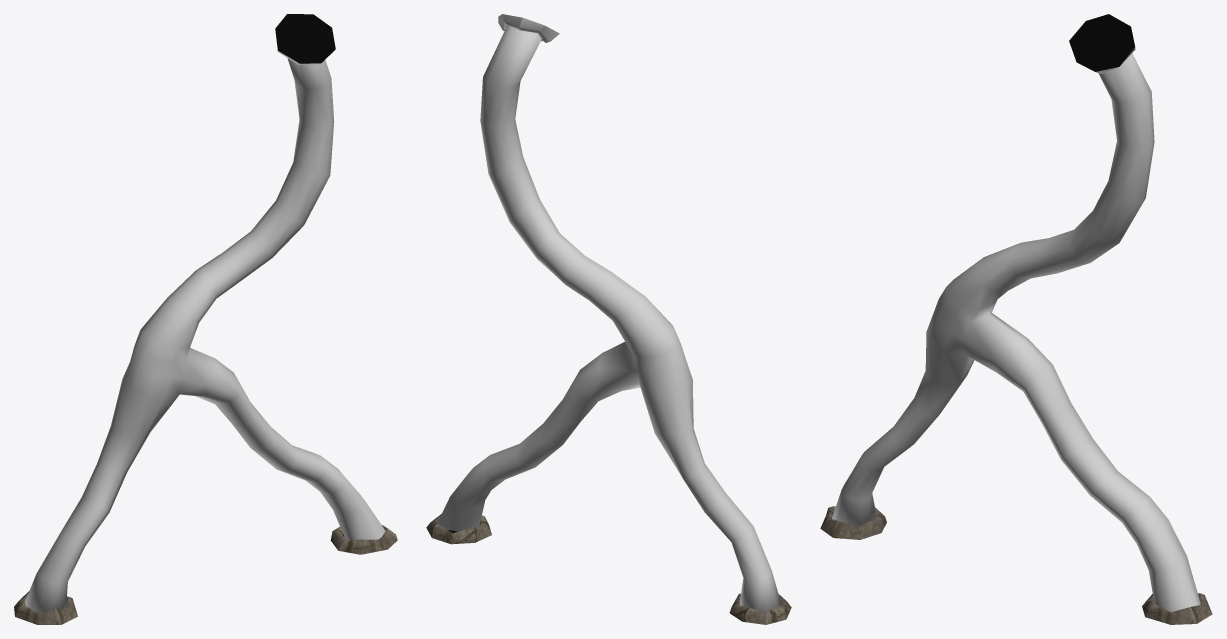
File: RootFlipped.FBX
The picture shows the model from 3 angles, left to right: view 1: azimuth 30°, elevation 25°; view 2: azimuth 150°, elevation 25°; view 3: azimuth 330°, elevation 25°; orthographic projection. The views are drawn at different scales.
Parts seen in each view (by area): view 1: RootFlipped; view 2: RootFlipped; view 3: RootFlipped.
Part boxes in pixels (x1,y1,x2,y2): RootFlipped: (14,14,397,624); RootFlipped: (426,14,791,624); RootFlipped: (820,14,1212,624).
Size of the model in its own units: 604 by 847 by 114.
